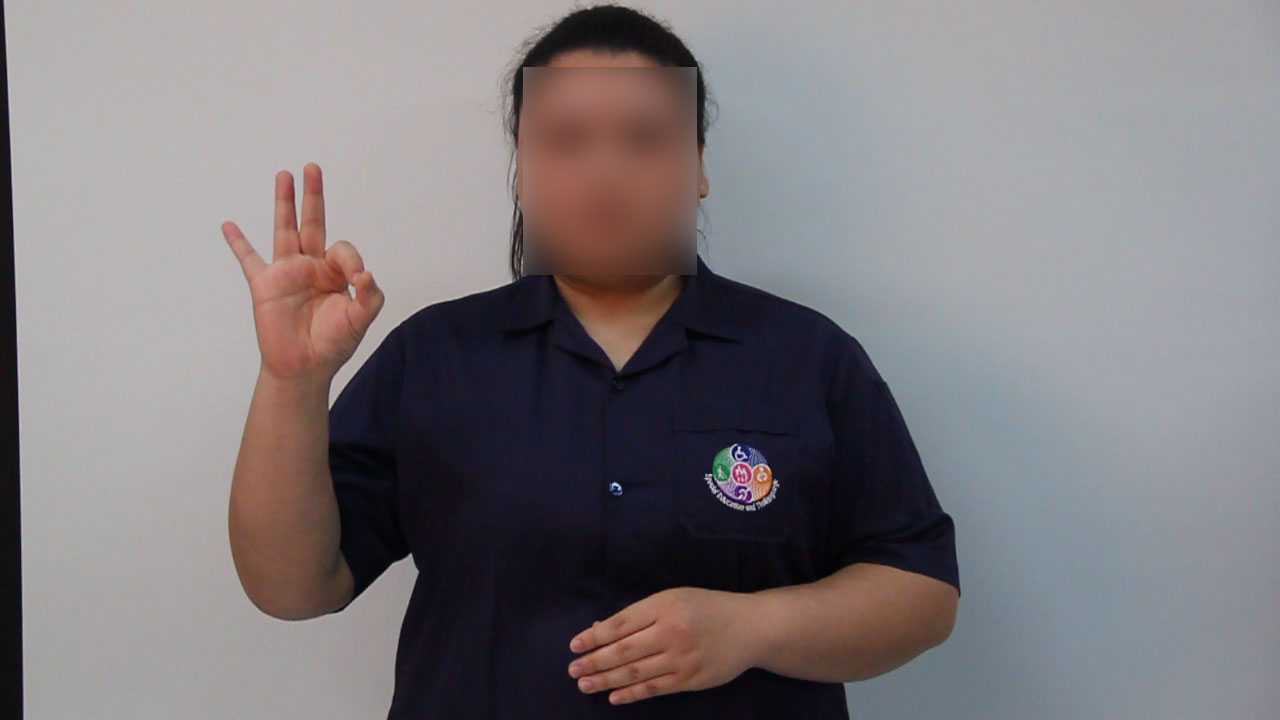for: (216, 153, 393, 393)
